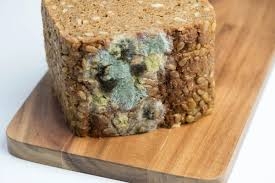mold_bread: (87, 26, 172, 99), (136, 101, 168, 132)
